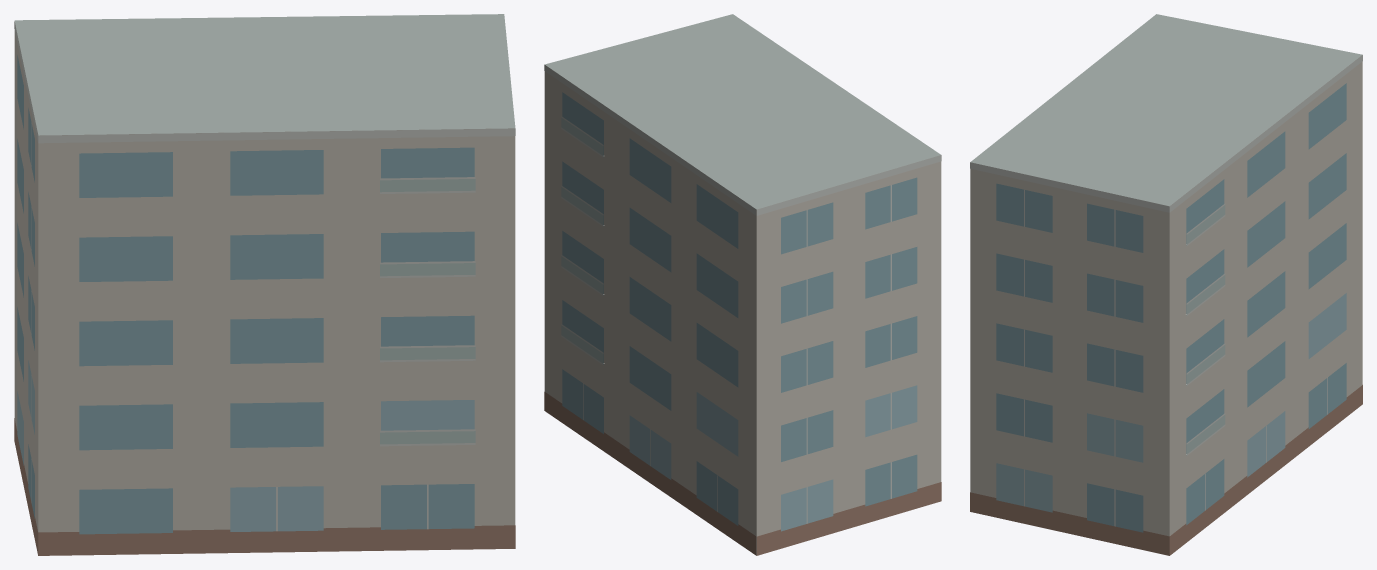
The model's file is survey-upis-32852740.glb.
3 renders of one model, left to right at view 1: azimuth 30°, elevation 25°; view 2: azimuth 150°, elevation 25°; view 3: azimuth 270°, elevation 25°, orthographic. The views are drawn at different scales.
Parts seen in each view (by area): view 1: survey-upis-32852740.tmp; view 2: survey-upis-32852740.tmp; view 3: survey-upis-32852740.tmp.
Part boxes in pixels (x1,y1,x2,y2): survey-upis-32852740.tmp: (14, 14, 515, 555); survey-upis-32852740.tmp: (544, 14, 941, 555); survey-upis-32852740.tmp: (970, 14, 1362, 555).
Size of the model in its own units: 15.58 by 13.2 by 13.44.
